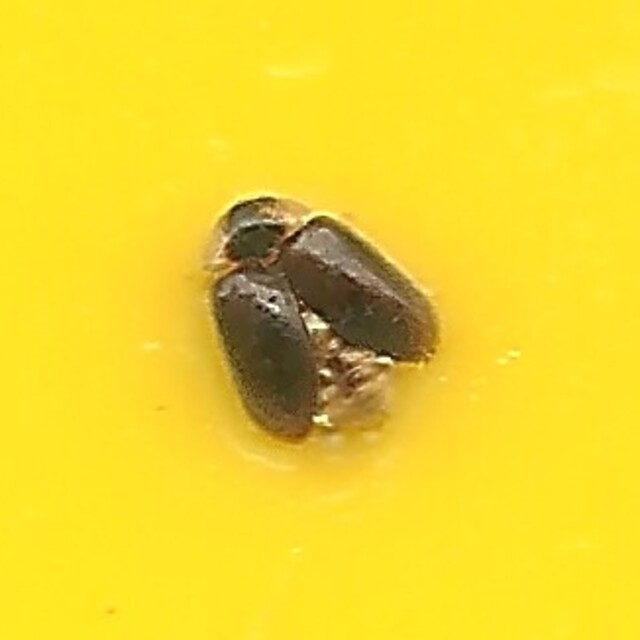Coleoptera: (196, 191, 444, 449)
